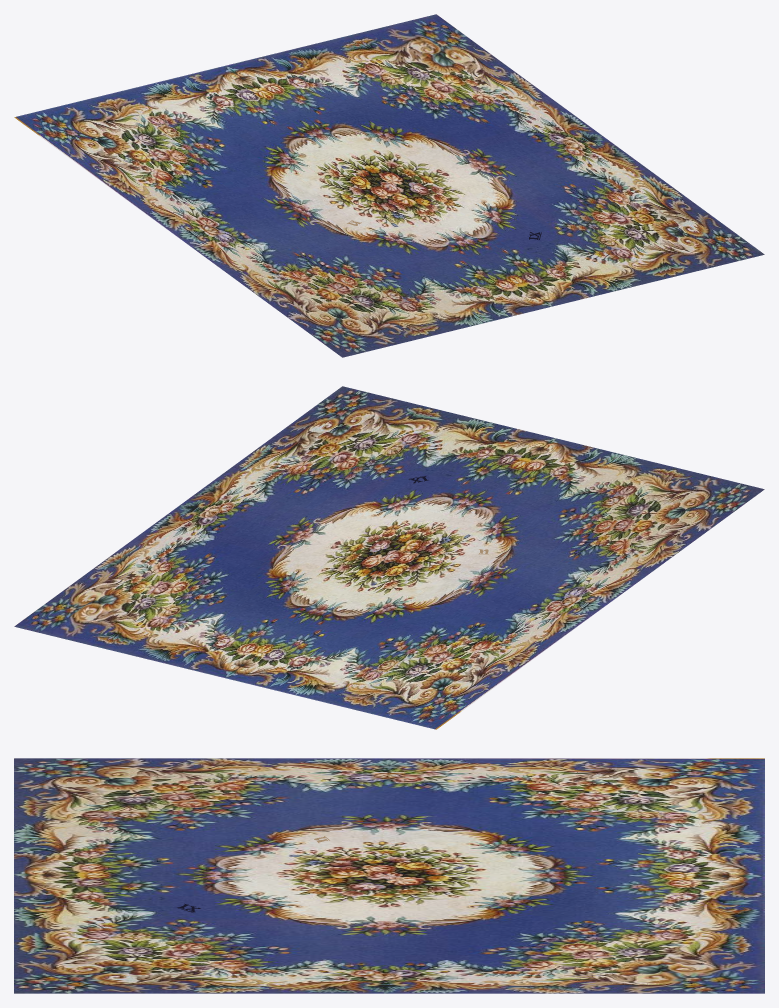
The model's file is Ķaīā(Ķģĩ§) 1.FBX.
3 renders of one model, top to bottom at view 1: azimuth 30°, elevation 25°; view 2: azimuth 150°, elevation 25°; view 3: azimuth 270°, elevation 25°, orthographic. The views are drawn at different scales.
Visible parts, largest first — view 1: Plane001; view 2: Plane001; view 3: Plane001.
Part boxes in pixels (x1,y1,x2,y2): Plane001: [14, 14, 764, 357]; Plane001: [14, 386, 764, 729]; Plane001: [14, 758, 764, 993].
Bounding box in the file's own units: 56.8 × 0.294 × 76.5.
